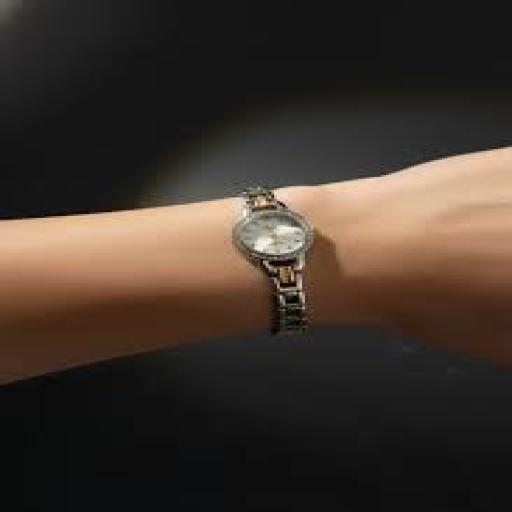KolSaati: (215, 180, 356, 340)
